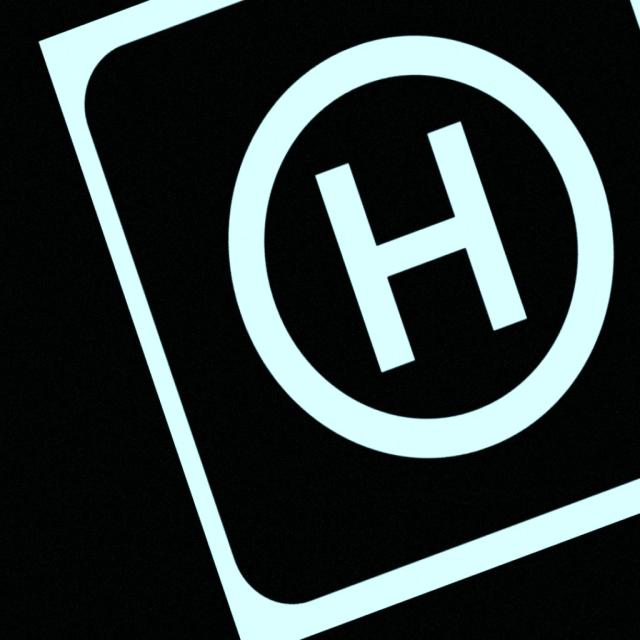helipad: (221, 28, 621, 466)
